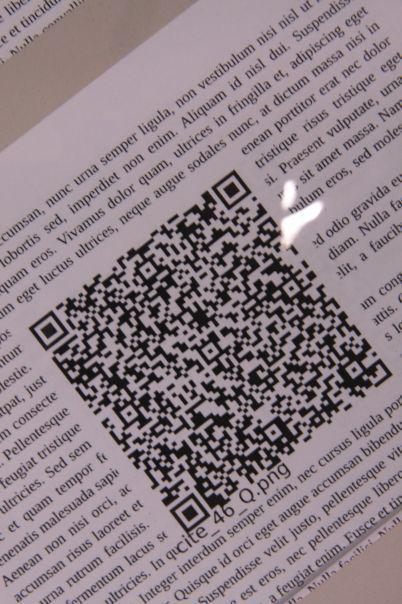qr_code: (29, 169, 394, 532)
